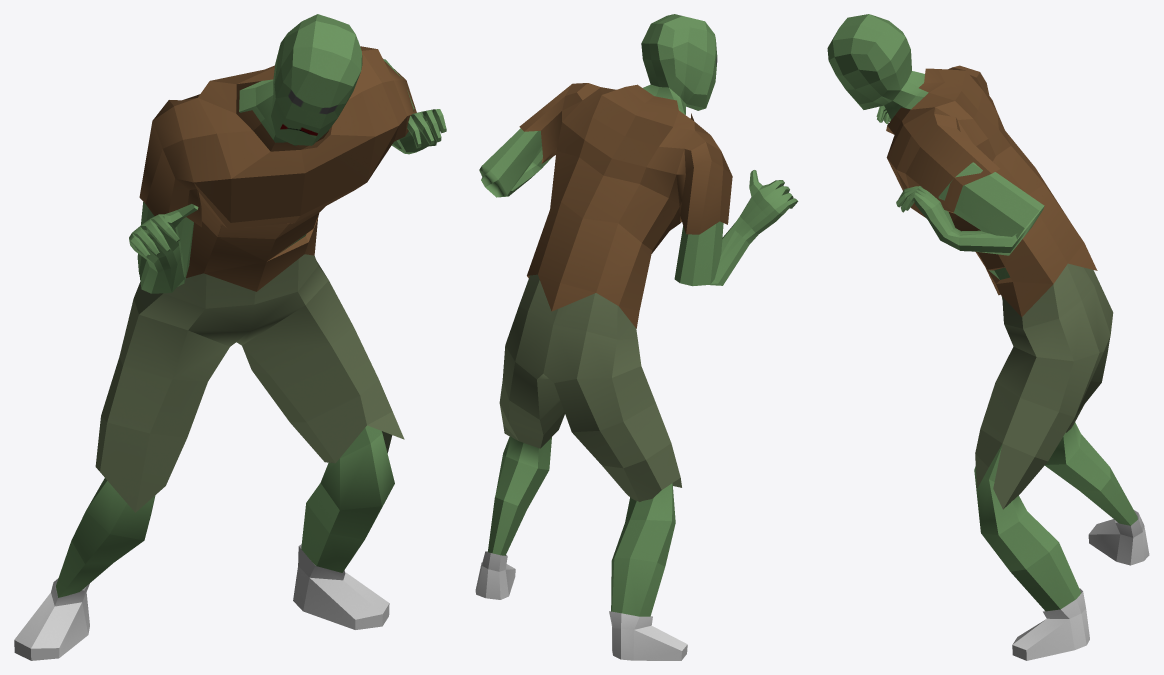
Rendered from ZombieAttack(73).obj.
3 views of the same model, side by side, from view 1: azimuth 30°, elevation 25°; view 2: azimuth 150°, elevation 25°; view 3: azimuth 270°, elevation 25° (orthographic). The views are drawn at different scales.
Parts seen in each view (by area): view 1: Object001; view 2: Object001; view 3: Object001.
Part boxes in pixels (bbox=[...]): Object001: bbox=[14, 14, 446, 660]; Object001: bbox=[475, 14, 798, 660]; Object001: bbox=[827, 14, 1149, 660].
Bounding box in the file's own units: 26.78 × 52.14 × 26.25.
